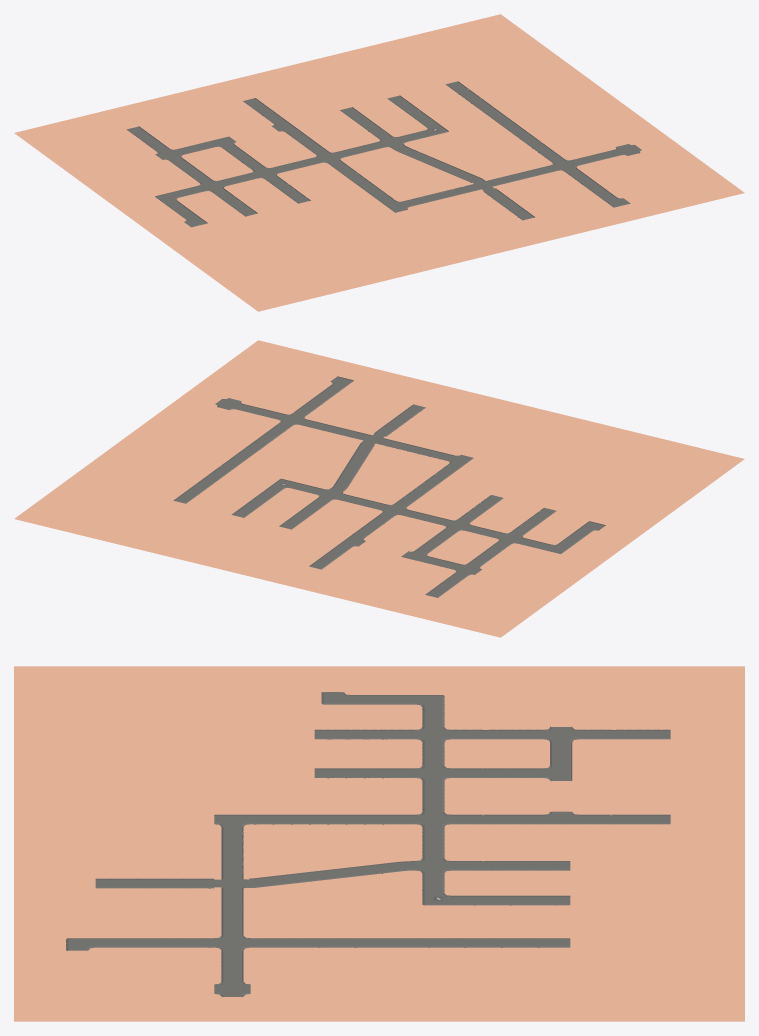
The model's file is Level 03.fbx.
3 views of the same model, one above another, from view 1: azimuth 30°, elevation 25°; view 2: azimuth 150°, elevation 25°; view 3: azimuth 270°, elevation 25° (orthographic). The views are drawn at different scales.
Visible parts, largest first — view 1: Footpath, Road; view 2: Footpath, Road; view 3: Footpath, Road.
Boxes of the visible parts, left/top/right/bottom form: Footpath: left=14, top=14, right=744, bottom=311; Road: left=126, top=81, right=641, bottom=227; Footpath: left=14, top=340, right=744, bottom=637; Road: left=173, top=376, right=605, bottom=597; Footpath: left=14, top=666, right=744, bottom=1021; Road: left=66, top=692, right=670, bottom=996.
Size of the model in its own units: 46050 by 120 by 40028.
1 material, 1 textured.
